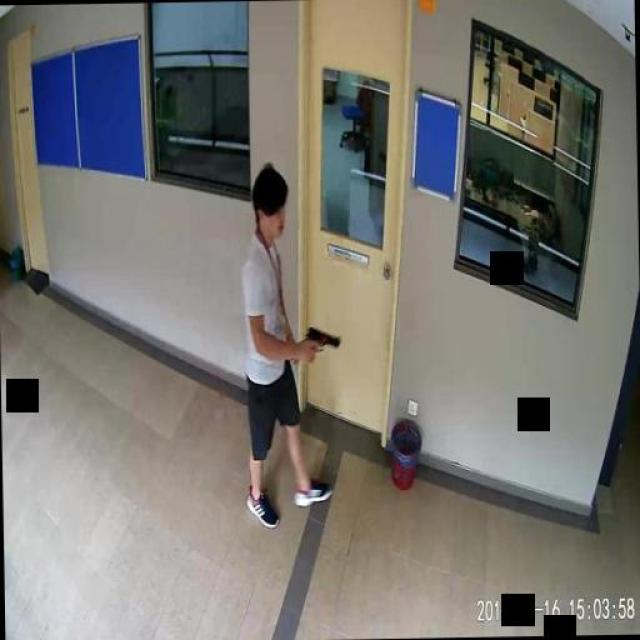gun: (305, 325, 340, 363)
